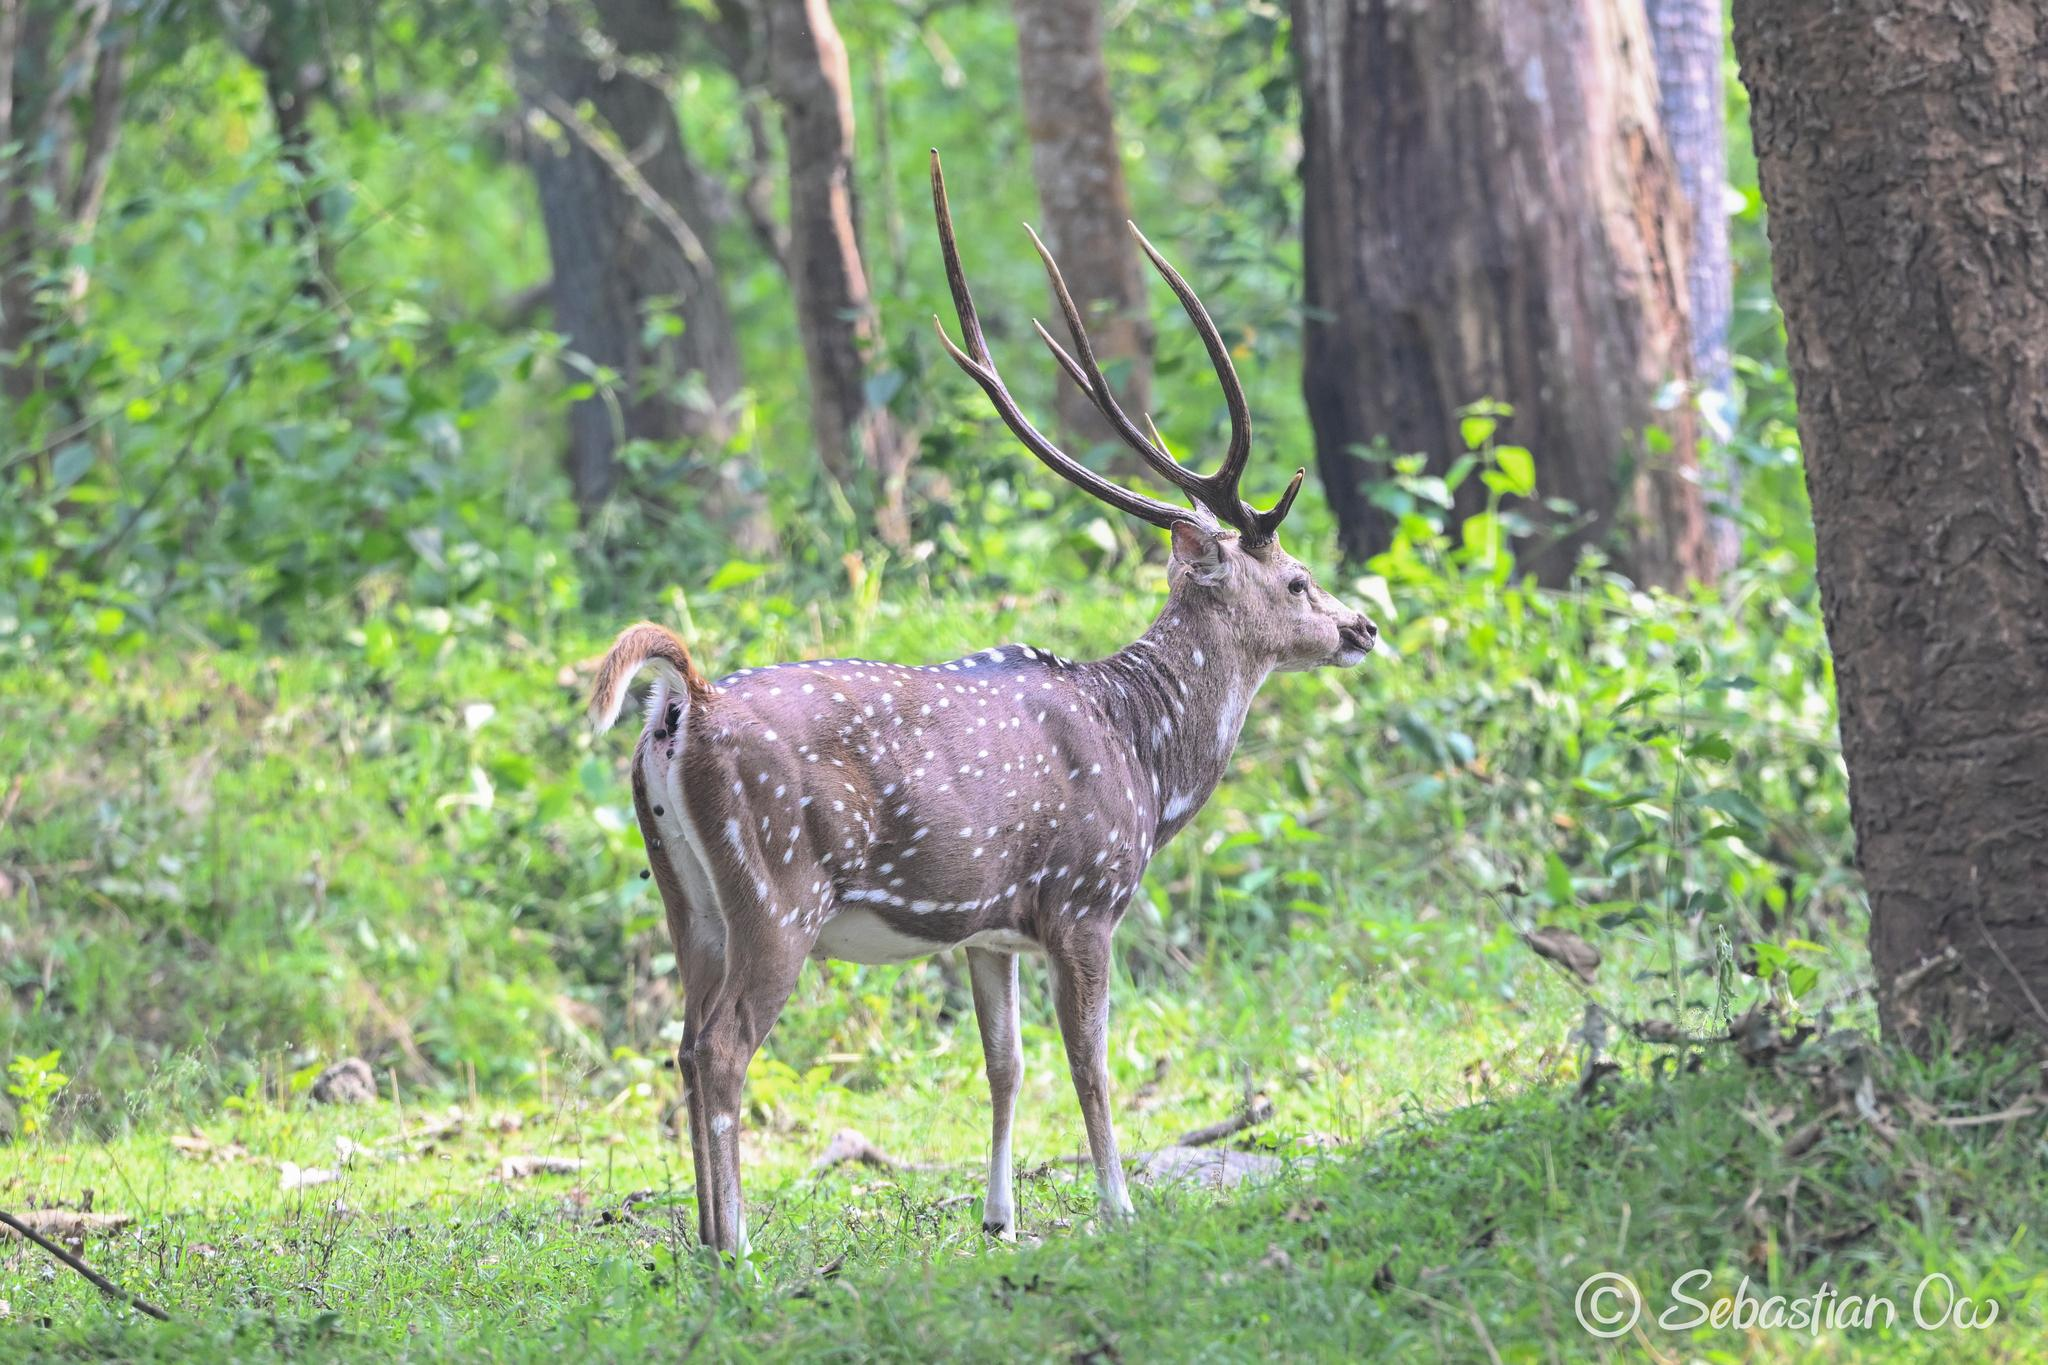Deer: (589, 152, 1378, 1252)
